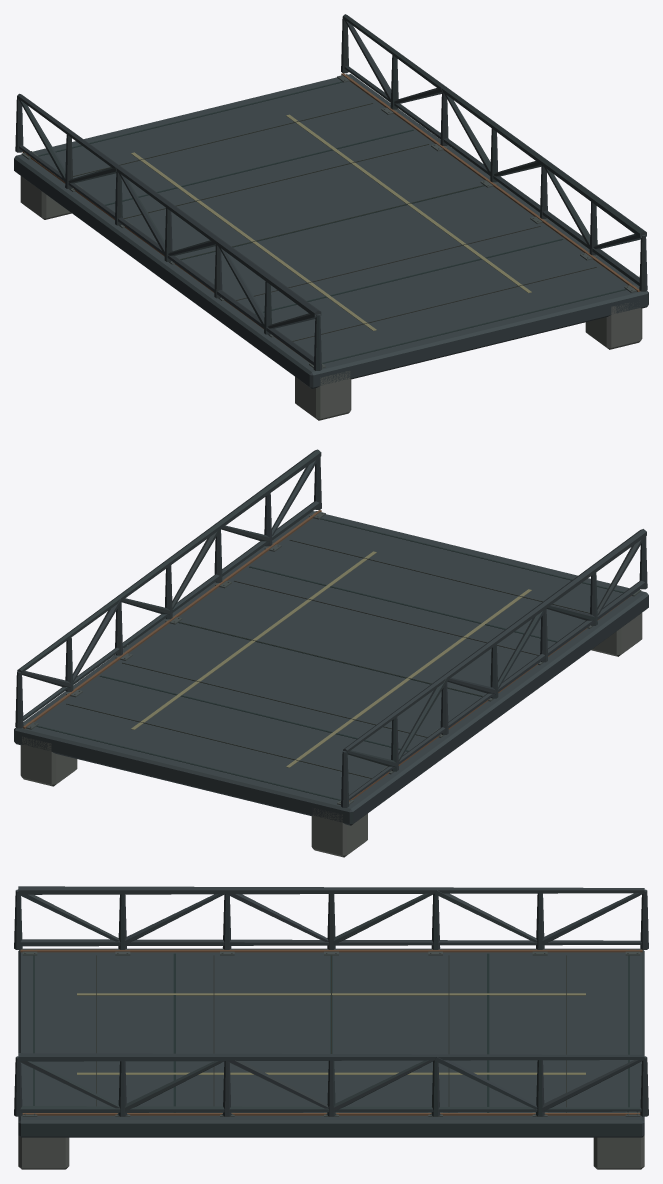
The model's file is bridge_span.glb.
The picture shows the model from 3 angles, top to bottom: view 1: azimuth 30°, elevation 25°; view 2: azimuth 150°, elevation 25°; view 3: azimuth 270°, elevation 25°; orthographic projection. The views are drawn at different scales.
Visible parts, largest first — view 1: bridge_span; view 2: bridge_span; view 3: bridge_span.
Boxes of the visible parts, x1,y1,x2,y2 form: bridge_span: [14, 14, 648, 420]; bridge_span: [14, 449, 648, 857]; bridge_span: [14, 886, 648, 1169].
Size of the model in its own units: 10.5 by 3.32 by 16.22.
